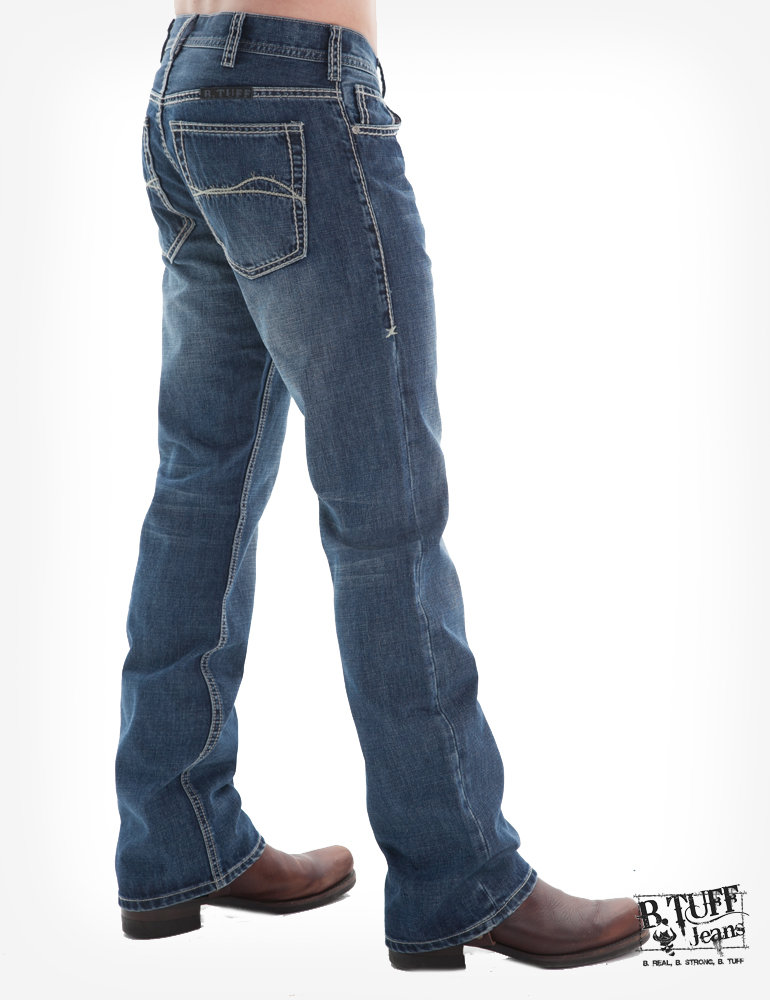jeans: (63, 4, 626, 916)
